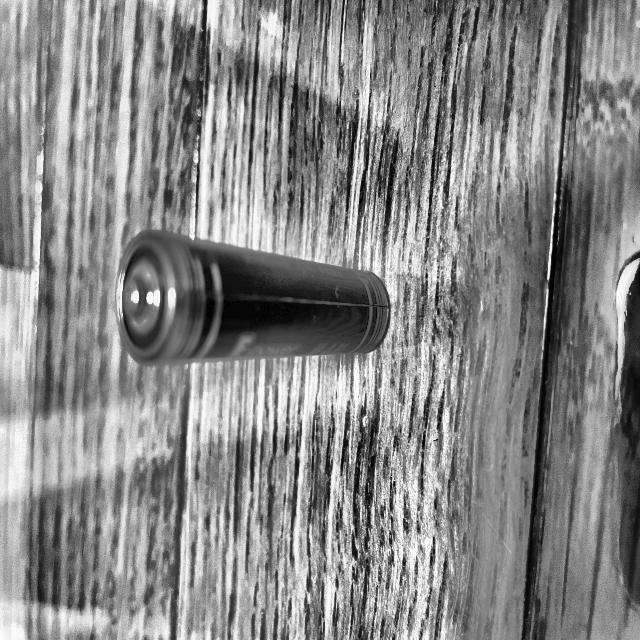drycell: (106, 214, 400, 378)
